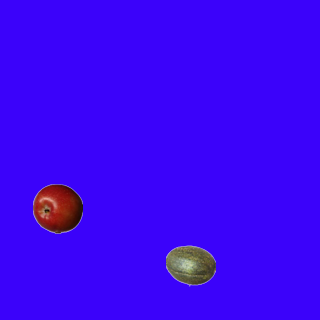Apple Braeburn: (32, 183, 82, 233)
Melon Piel de Sapo: (165, 240, 215, 290)
